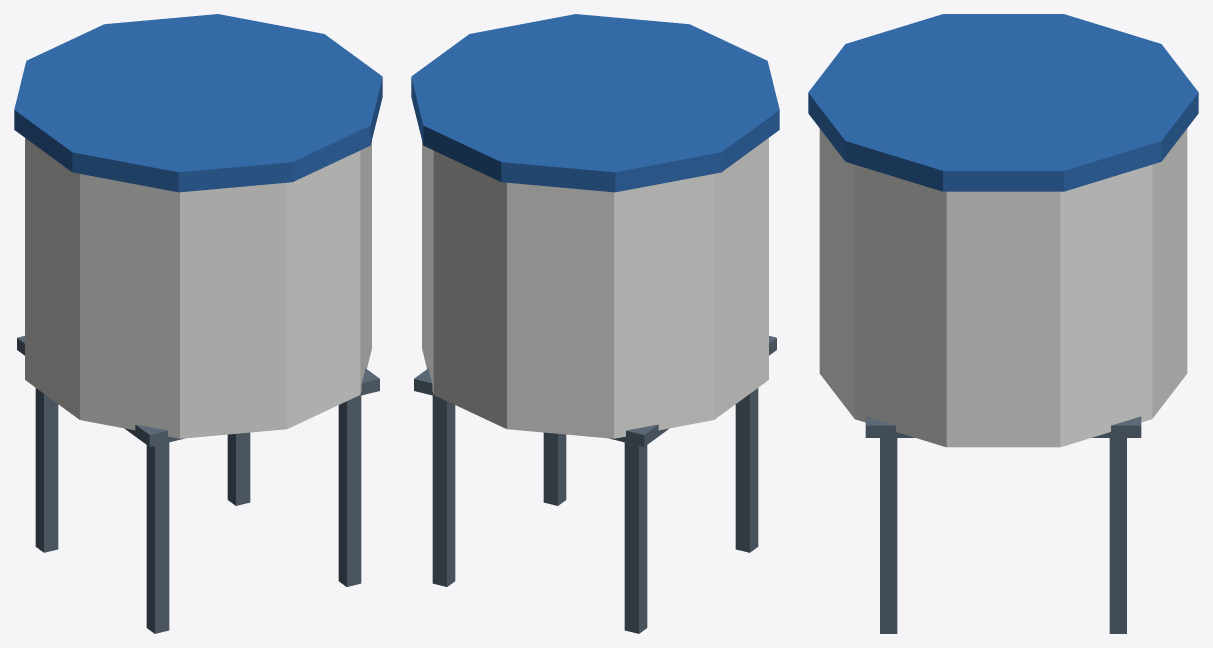
Rendered from city_rooftop_water_tank.glb.
3 renders of one model, left to right at view 1: azimuth 30°, elevation 25°; view 2: azimuth 150°, elevation 25°; view 3: azimuth 270°, elevation 25°, orthographic. The views are drawn at different scales.
Visible parts, largest first — view 1: city_rooftop_water_tank_white, city_rooftop_water_tank_blue, city_rooftop_water_tank_steel; view 2: city_rooftop_water_tank_white, city_rooftop_water_tank_blue, city_rooftop_water_tank_steel; view 3: city_rooftop_water_tank_white, city_rooftop_water_tank_blue, city_rooftop_water_tank_steel.
Part boxes in pixels (x1,y1,x2,y2): city_rooftop_water_tank_white: (25, 138, 371, 438); city_rooftop_water_tank_blue: (14, 14, 382, 192); city_rooftop_water_tank_steel: (17, 336, 379, 633); city_rooftop_water_tank_white: (422, 138, 768, 438); city_rooftop_water_tank_blue: (411, 14, 779, 192); city_rooftop_water_tank_steel: (414, 336, 776, 633); city_rooftop_water_tank_white: (819, 128, 1187, 447); city_rooftop_water_tank_blue: (808, 14, 1198, 191); city_rooftop_water_tank_steel: (865, 416, 1141, 633).
Bounding box in the file's own units: 3.23 × 4.7 × 3.4.
